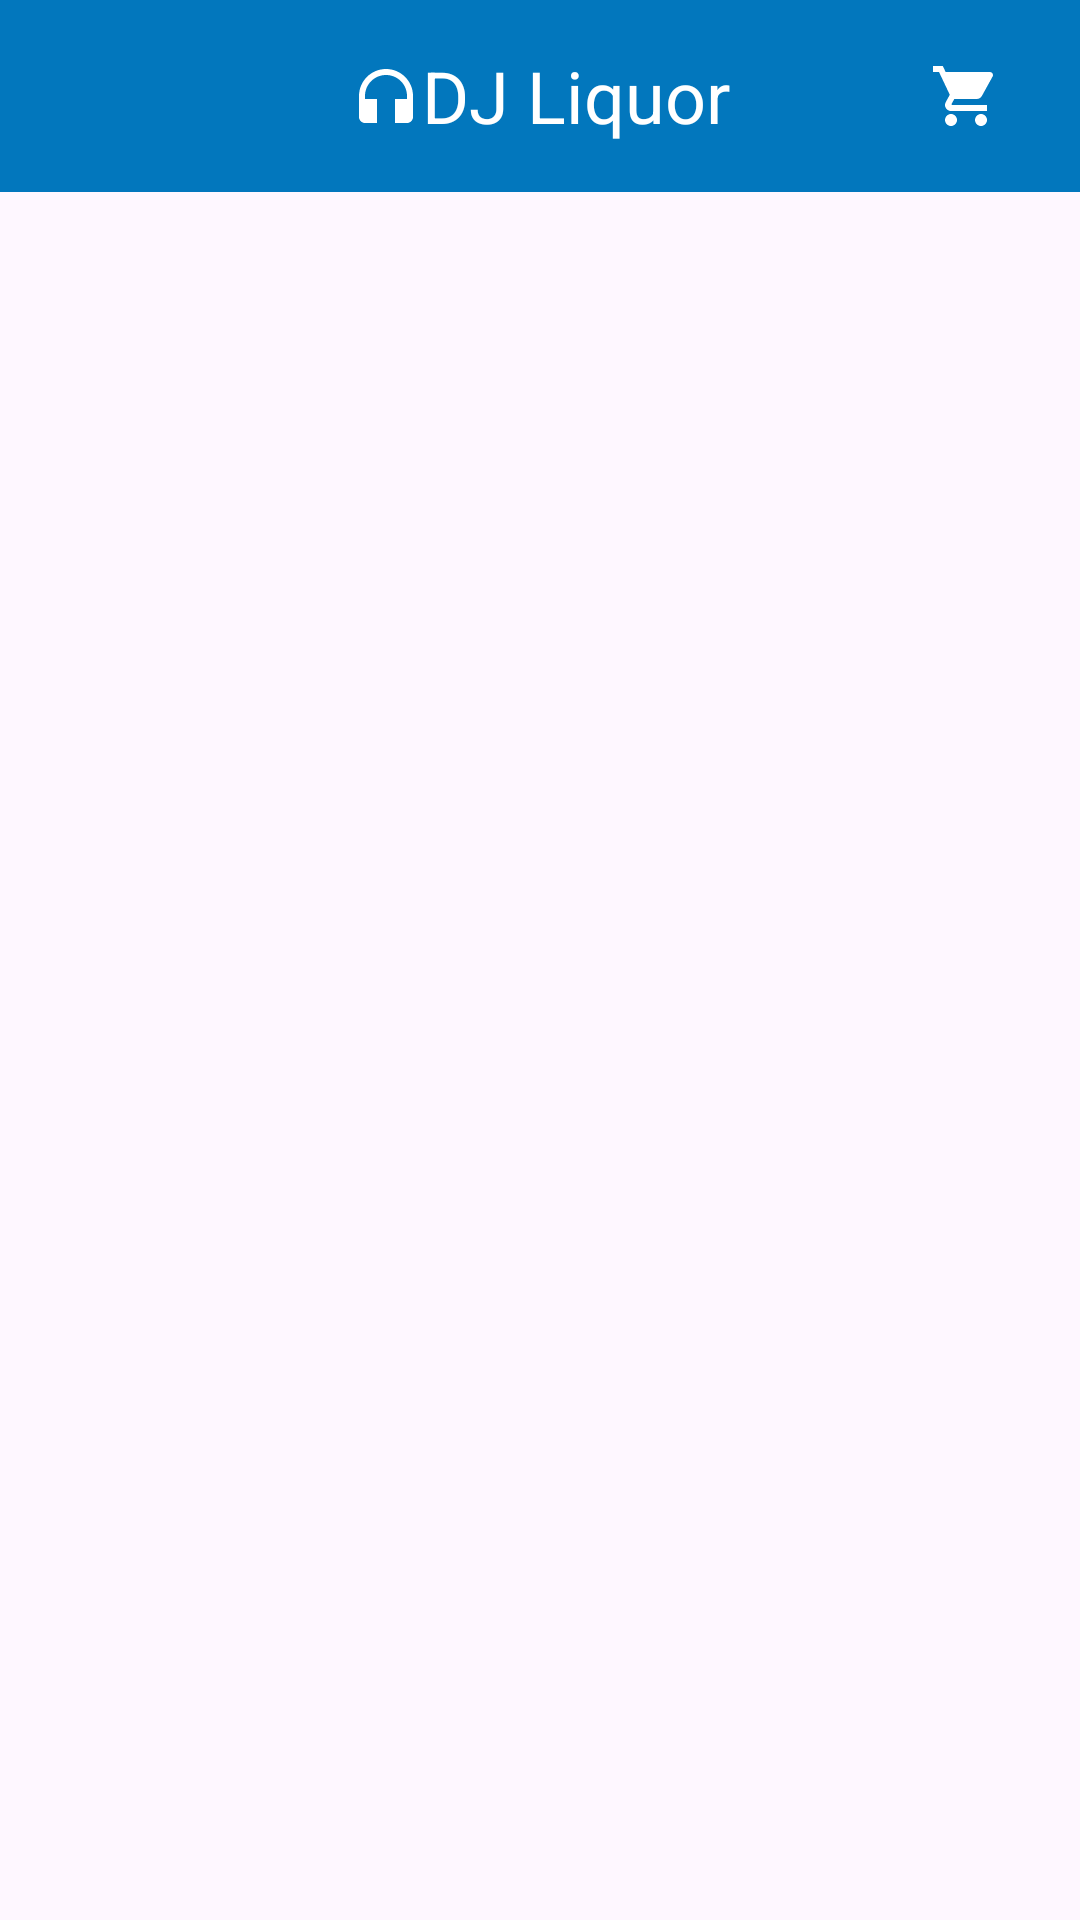

Named icons in this screenshot (1080w x 1920h) and their centers, point (x, y):
headphones: point (386, 96)
shopping cart: point (963, 96)
